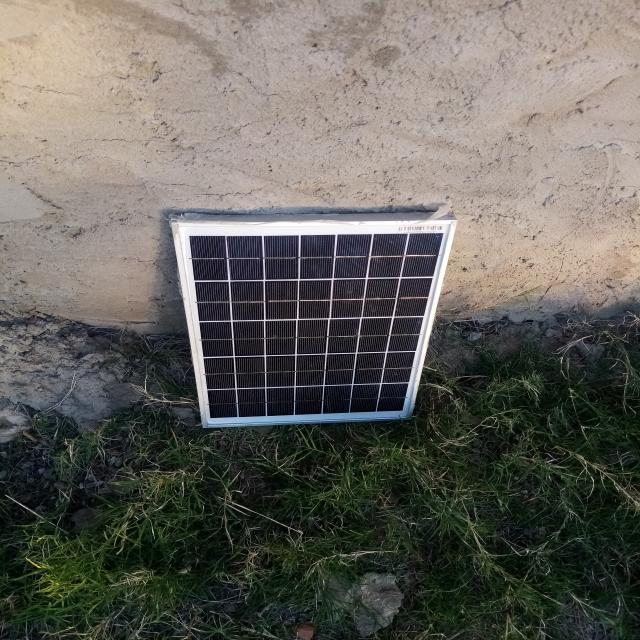no faulty: (172, 219, 456, 427)
